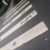zebra: (1, 2, 49, 49)
